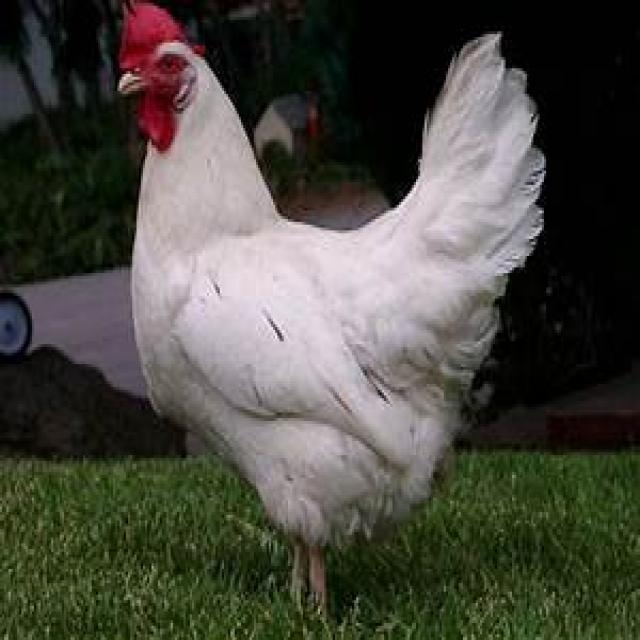chicken: (118, 4, 542, 608)
